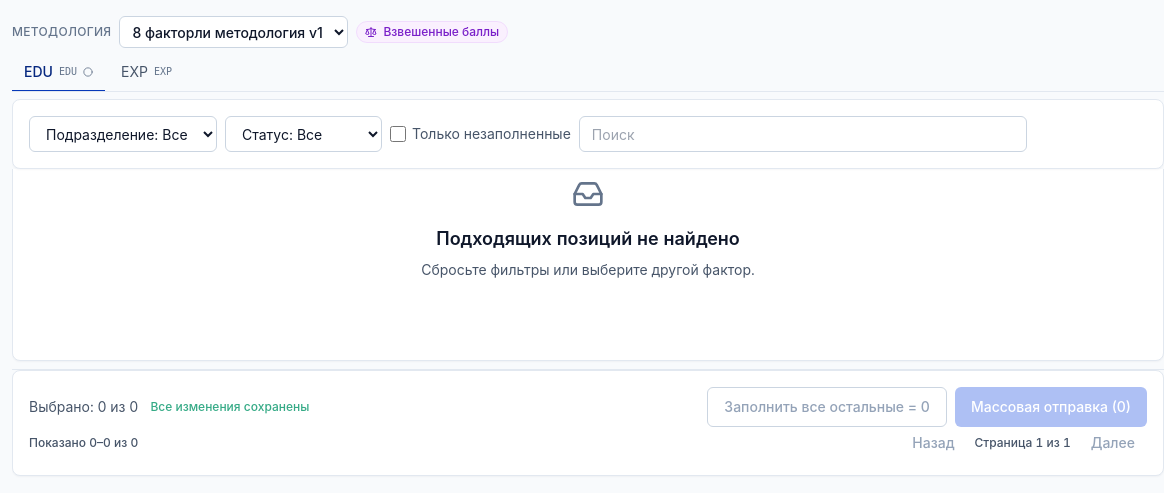
Test case: EvaluationByFactorView — methodology selector (version scoping) › switching the selector swaps factor tabs AND the rows request to the other version
The width and height of the screenshot is (1164, 493).
Select "Методология HR Lab v1" in the dropdown with test id "byfactor-methodology-select" at (234, 32), box [119,16,348,48]
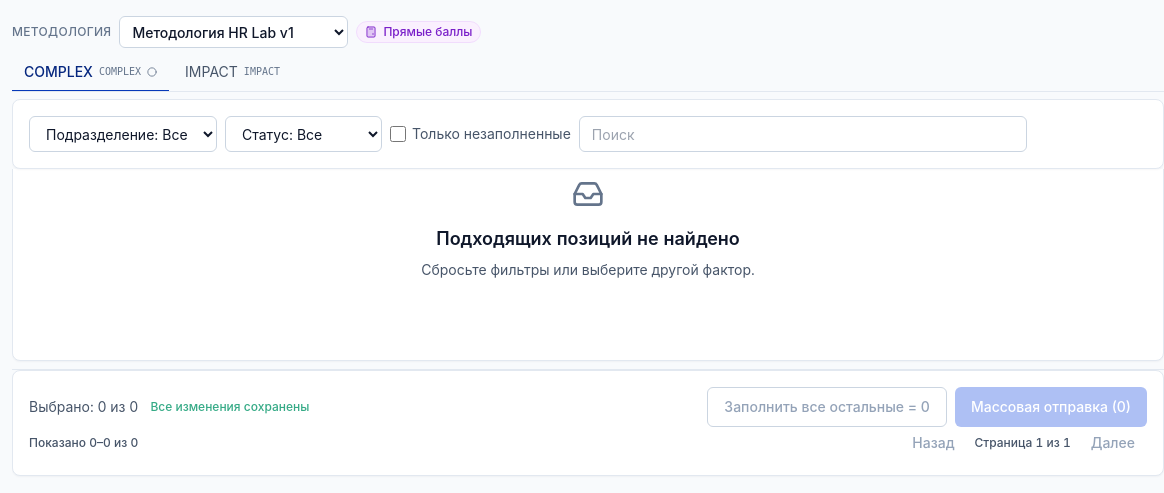
Check: the tab with test id "factor-tab-COMPLEX" is shown, box [12,54,169,92]
Check: the tab with test id "factor-tab-EDU" is gone
